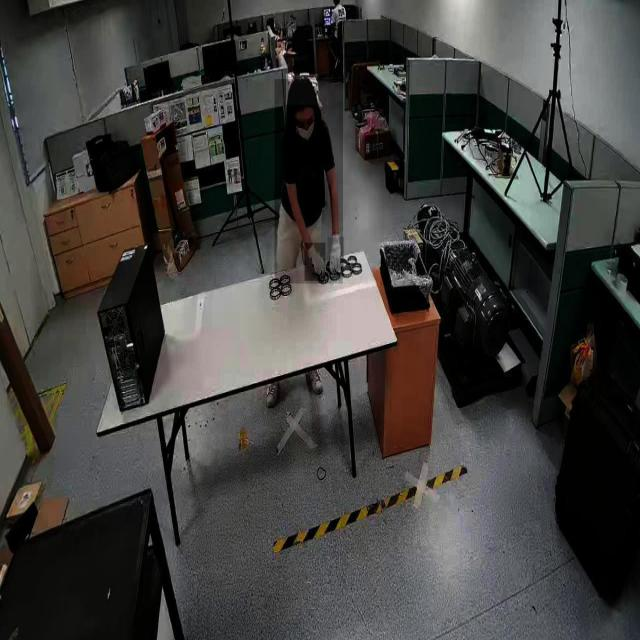face_mask: (294, 119, 318, 145)
hand_glove: (304, 242, 326, 282), (328, 238, 344, 276)
head_nohelmet: (286, 74, 319, 106)
person: (274, 79, 344, 285)
